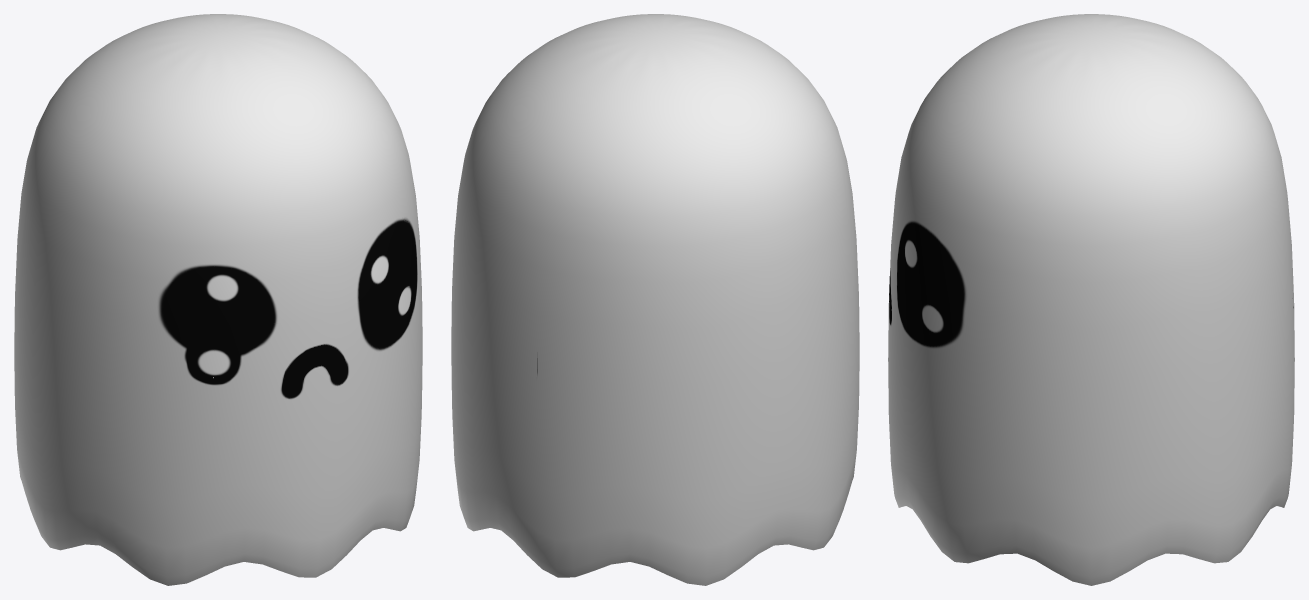
The model's file is Ghost.glb.
3 renders of one model, left to right at view 1: azimuth 30°, elevation 25°; view 2: azimuth 150°, elevation 25°; view 3: azimuth 270°, elevation 25°, orthographic.
Visible parts, largest first — view 1: Cylinder; view 2: Cylinder; view 3: Cylinder.
Part boxes in pixels (<box>): Cylinder: <box>14,14,422,585</box>; Cylinder: <box>451,14,859,585</box>; Cylinder: <box>888,14,1294,585</box>.
Size of the model in its own units: 1.34 by 1.71 by 1.34.
Materials: 1 (1 with a texture image).
